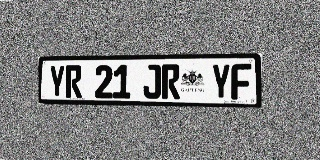1: (113, 65, 130, 98)
2: (95, 65, 112, 98)
F: (231, 64, 251, 100)
J: (143, 64, 161, 99)
R: (162, 64, 180, 99), (66, 65, 82, 98)
Y: (211, 64, 231, 100), (49, 65, 65, 98)
